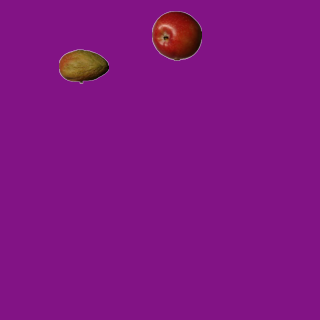Apple Braeburn: (151, 10, 201, 60)
Papaya: (58, 41, 108, 91)
